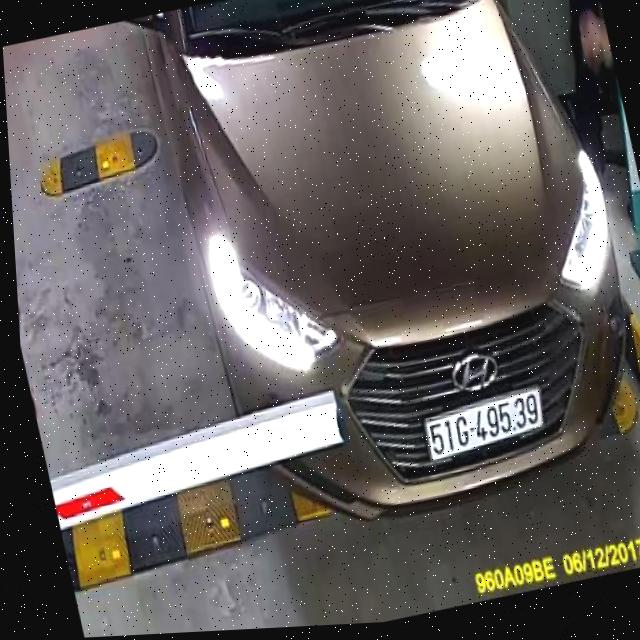car: (111, 0, 640, 558)
plate: (417, 386, 551, 463)
